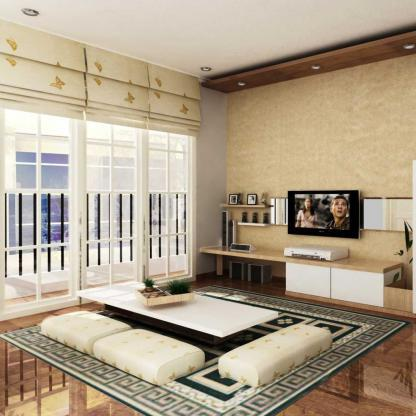meja: (78, 280, 279, 339)
tanaman: (166, 278, 191, 296)
tv: (286, 188, 362, 241)
